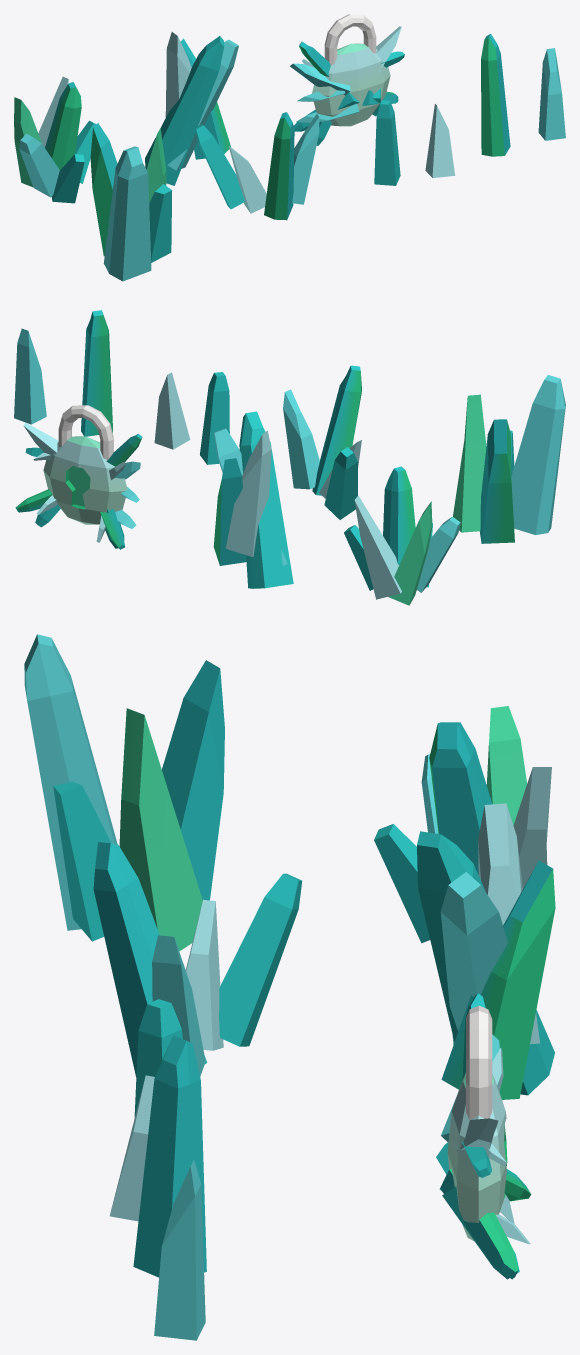
The model's file is crisaux.fbx.
The picture shows the model from 3 angles, top to bottom: view 1: azimuth 30°, elevation 25°; view 2: azimuth 150°, elevation 25°; view 3: azimuth 270°, elevation 25°; orthographic projection. The views are drawn at different scales.
Parts seen in each view (by area): view 1: cristaux.001, cadena cristaux, cristaux.006, cristaux.007, cristaux.002, cristaux.004, cristaux.005, cristaux.003, cristaux; view 2: cristaux.001, cadena cristaux, cristaux.006, cristaux.007, cristaux.002, cristaux.004, cristaux.005, cristaux.003, cristaux; view 3: cristaux.001, cristaux.006, cristaux.002, cristaux.007, cadena cristaux, cristaux.004, cristaux.005, cristaux, cristaux.003.
Boxes of the visible parts, x1,y1,x2,y2 form: cristaux.001: (90, 123, 172, 281); cadena cristaux: (290, 14, 404, 145); cristaux.006: (145, 32, 238, 185); cristaux.007: (14, 76, 96, 203); cristaux.002: (195, 112, 319, 220); cristaux.004: (481, 34, 510, 156); cristaux.005: (538, 48, 565, 140); cristaux.003: (374, 100, 400, 185); cristaux: (425, 104, 455, 178); cristaux.001: (453, 375, 565, 543); cadena cristaux: (15, 405, 142, 549); cristaux.006: (213, 411, 293, 588); cristaux.007: (344, 466, 460, 605); cristaux.002: (283, 365, 361, 519); cristaux.004: (81, 310, 112, 436); cristaux.005: (14, 328, 46, 424); cristaux.003: (200, 372, 229, 464); cristaux: (154, 372, 190, 449); cristaux.001: (24, 634, 224, 951); cristaux.006: (417, 803, 555, 1099); cristaux.002: (93, 842, 302, 1076); cristaux.007: (374, 706, 551, 943); cadena cristaux: (436, 993, 531, 1279); cristaux.004: (133, 1035, 206, 1277); cristaux.005: (154, 1159, 205, 1340); cristaux: (109, 1075, 154, 1221); cristaux.003: (134, 999, 182, 1117).
Bounding box in the file's own units: 505 × 153 × 243.
